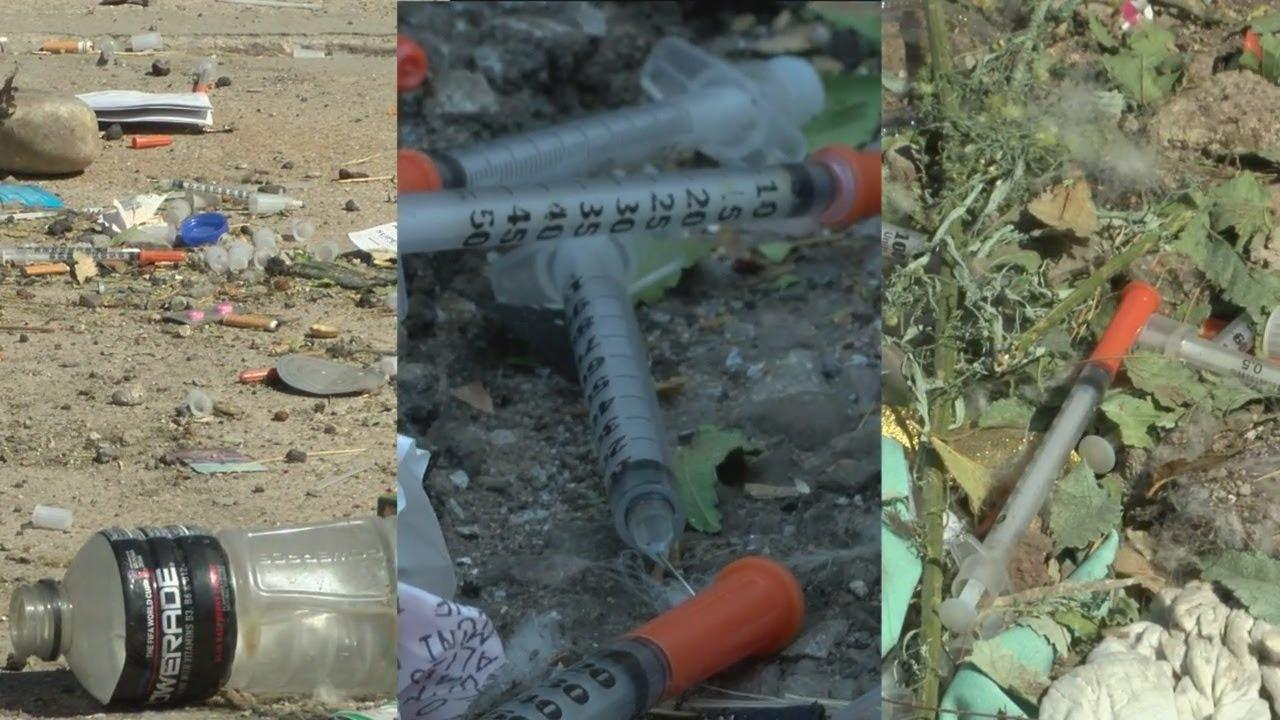Iv_Bottle: (9, 517, 396, 704)
Syringe: (939, 282, 1160, 632), (400, 37, 823, 191), (489, 237, 685, 561), (478, 556, 803, 719), (398, 145, 880, 253), (1137, 315, 1279, 395), (158, 179, 302, 214), (0, 245, 185, 264), (158, 179, 257, 202)
